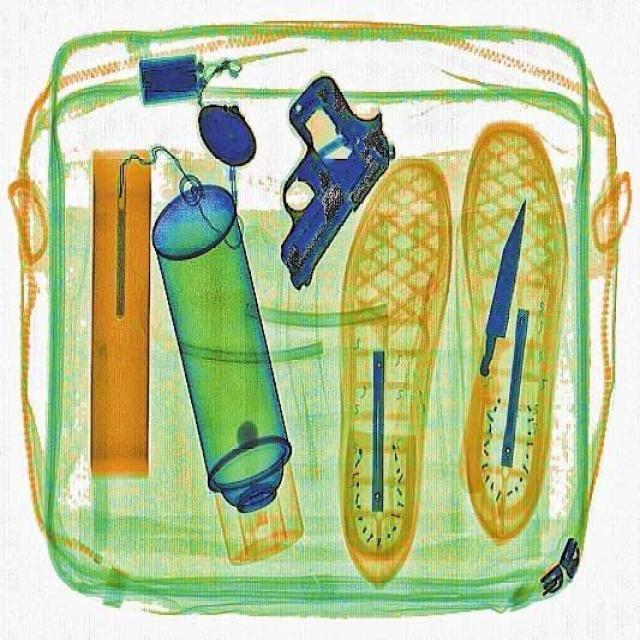knife: (478, 196, 527, 375)
pistol: (279, 71, 396, 293)
